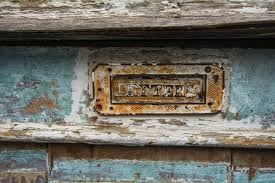rust: (205, 68, 221, 107), (29, 98, 58, 116), (96, 98, 108, 112)
